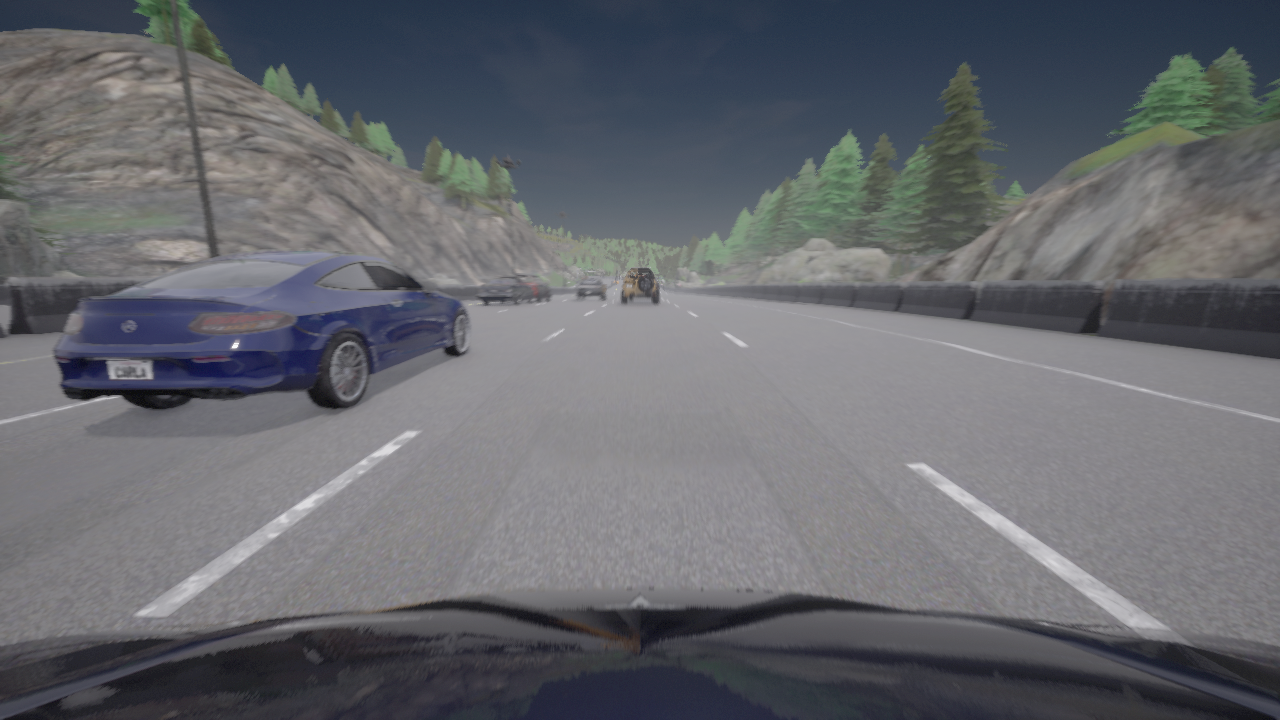cyclist: (0, 588, 1279, 719), (53, 249, 470, 409), (477, 277, 534, 304), (621, 268, 658, 303), (510, 274, 549, 301), (576, 279, 606, 299), (629, 296, 651, 300)
